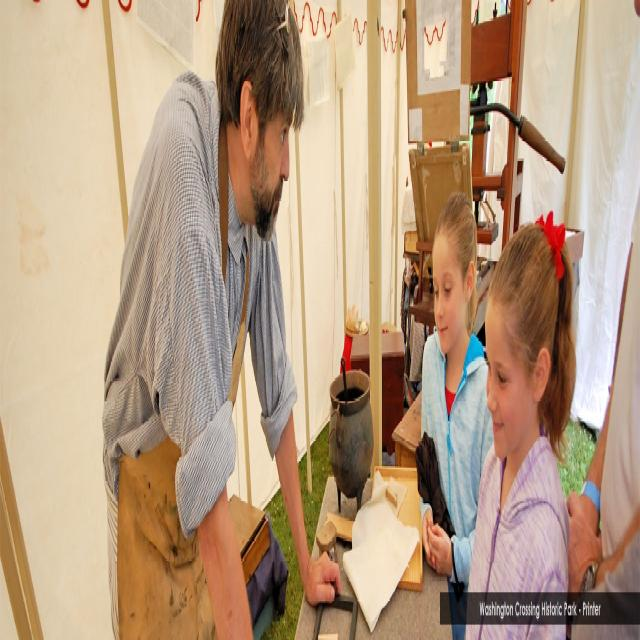body: (99, 0, 346, 638), (462, 207, 578, 640), (564, 185, 640, 637), (420, 186, 494, 640)
